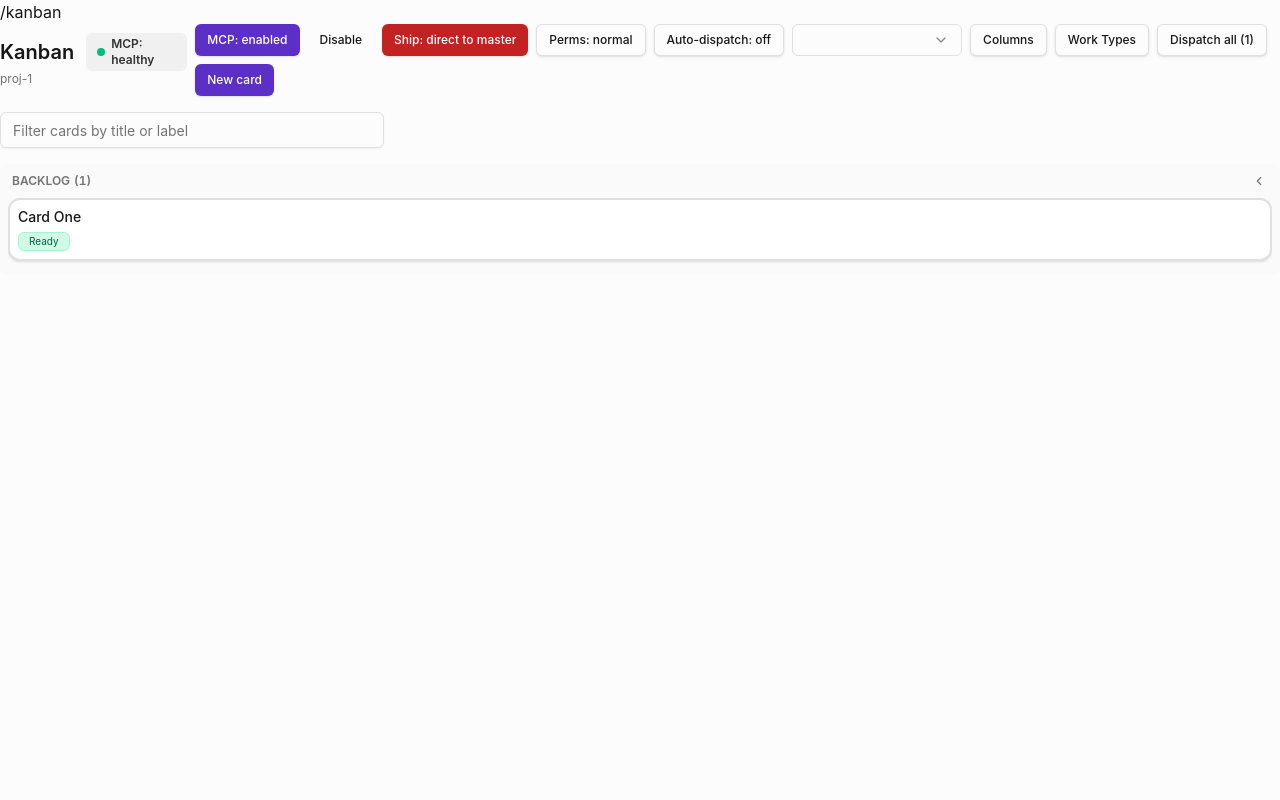
Test: KanbanPage ?card= deep link › opening a card updates the URL and closing it removes the param
The width and height of the screenshot is (1280, 800).
Click the text "Card One". click: (50, 216)
box: 18,208 -> 81,225
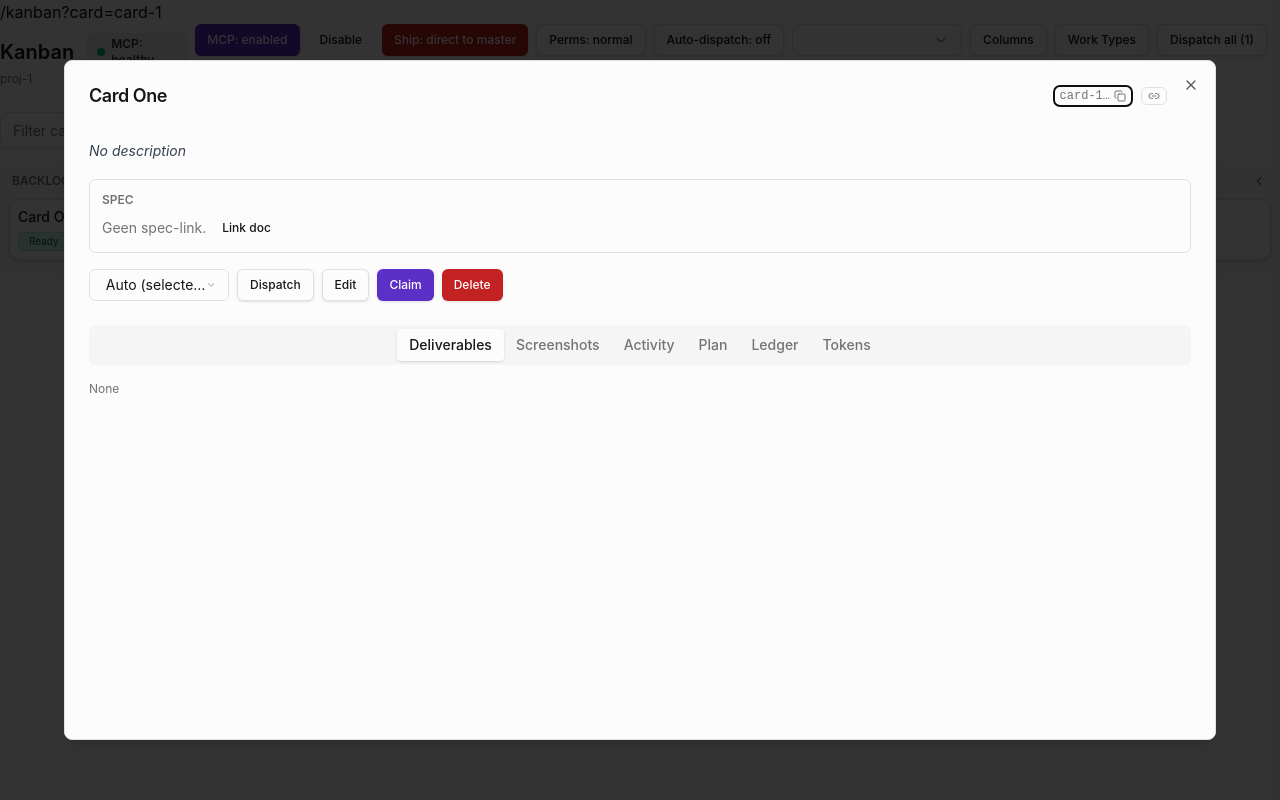
Expected: the button with test id "card-id-chip" is shown, 1053,85 -> 1133,107
Expected: the text with test id "location" reads "/kanban?card=card-1", 0,2 -> 162,22
Click the button named "Close". click: (1191, 85)
box: 1183,77 -> 1199,93
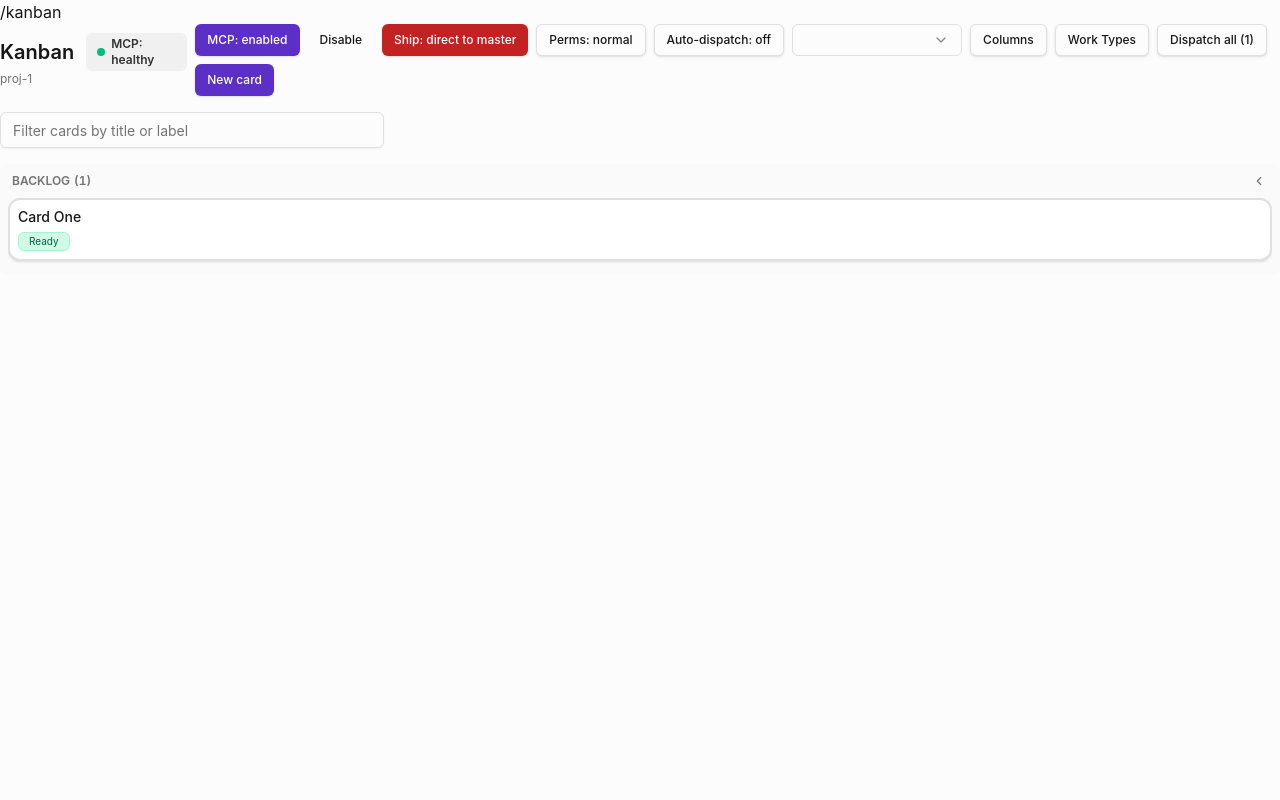
Expected: the button with test id "card-id-chip" is gone
Expected: the text with test id "location" reads "/kanban", 0,2 -> 61,22
